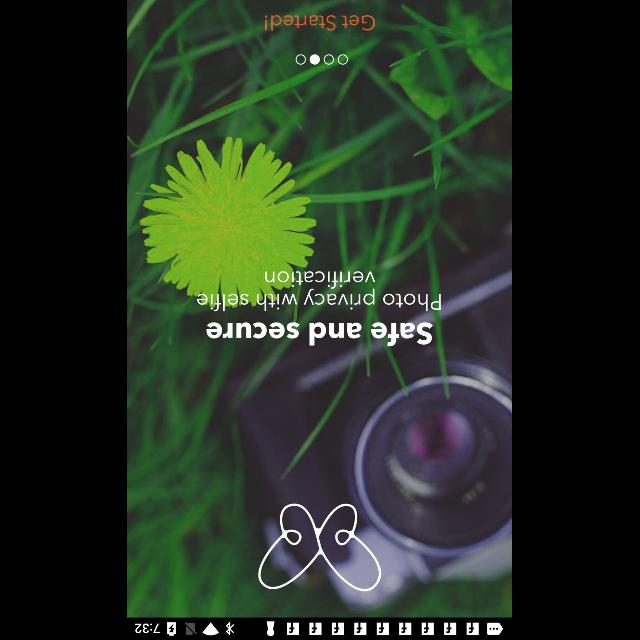backgroundimage: (128, 0, 512, 618)
image: (258, 502, 382, 592)
pageindicator: (296, 54, 348, 64)
text: (198, 270, 442, 312), (207, 322, 433, 346), (266, 14, 376, 32)
uppertaskbar: (128, 617, 512, 639)
